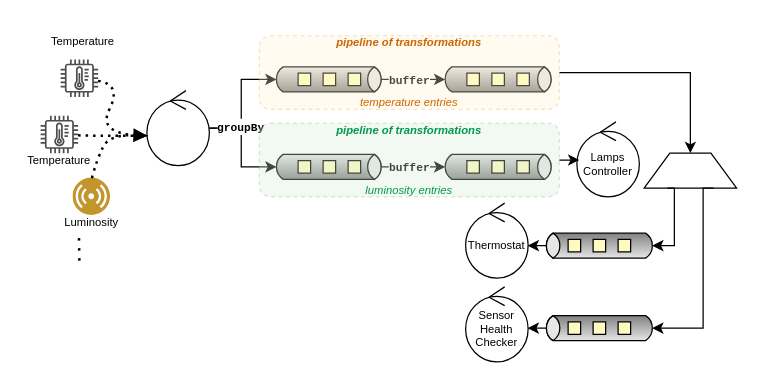
Image size: 759x384. Some labels were removed from this diagram. The shapes that lost their labels are listed below. From the top down, each one's centre as x and y in pixels, then its label:
At pixel 177 127: "Sensor Source".
At pixel 690 170: "Multiplexer".
